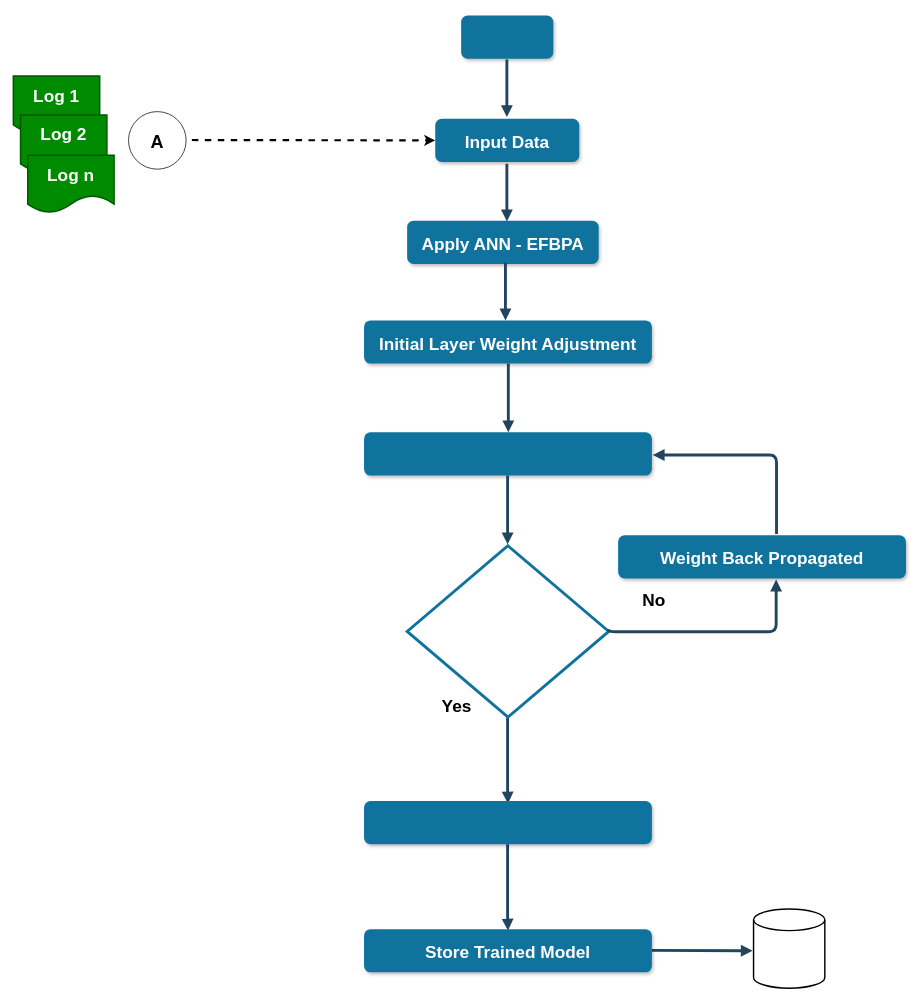
Some shapes in this 922 by 1001 pixel diagram are drawn without their labels. The shapes that lost their labels are listed below. From the top down, each one's centre as x and y in pixels, then its label:
At (507,37): "Start".
At (508,454): "Layer Weight Adjustment".
At (507,631): "(Log Increment ++) Is End of Log ?".
At (508,823): "Evaluate Model Training".
At (788,948): "Final Result".
